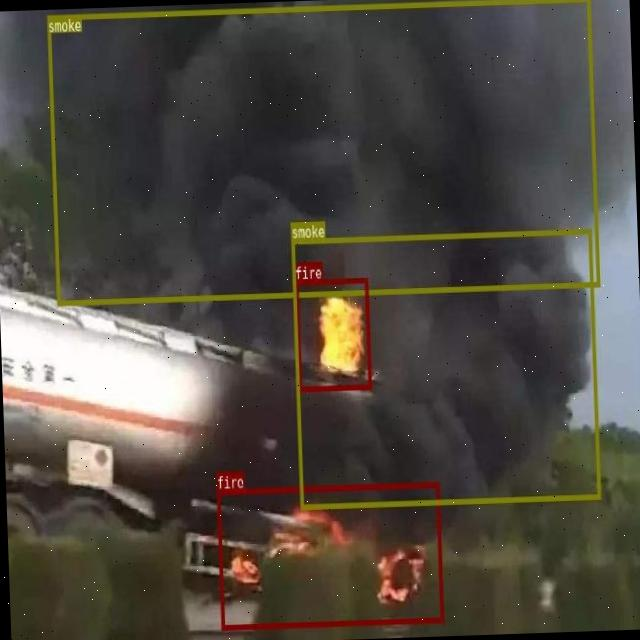fire: (215, 482, 442, 629), (294, 276, 370, 389)
smoke: (46, 0, 599, 304), (292, 228, 600, 508)
